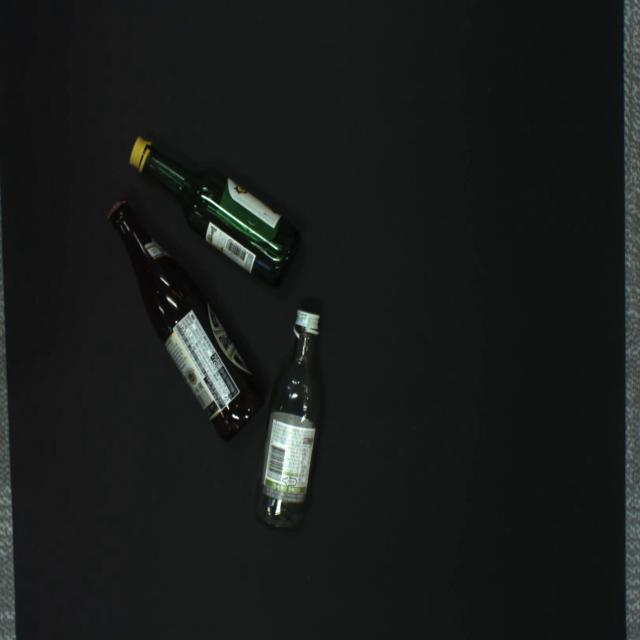beer-bottle: (108, 200, 262, 442)
soju-bottle: (130, 137, 299, 286), (255, 310, 322, 532)
